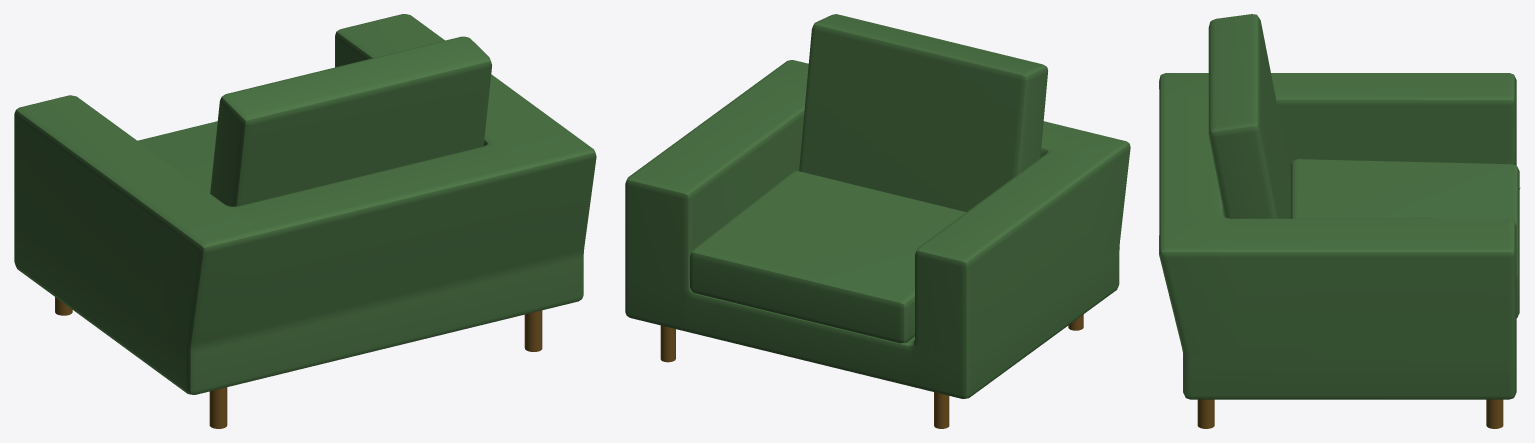
The model's file is AccentSofa.fbx.
3 views of the same model, side by side, from view 1: azimuth 30°, elevation 25°; view 2: azimuth 150°, elevation 25°; view 3: azimuth 270°, elevation 25° (orthographic). The views are drawn at different scales.
Visible parts, largest first — view 1: AccentSofa; view 2: AccentSofa; view 3: AccentSofa.
Part boxes in pixels (box(x1,y1,x2,y2)): AccentSofa: box(14, 14, 596, 428); AccentSofa: box(625, 14, 1130, 428); AccentSofa: box(1159, 14, 1520, 428).
Bounding box in the file's own units: 1.77 × 1.29 × 1.49.
